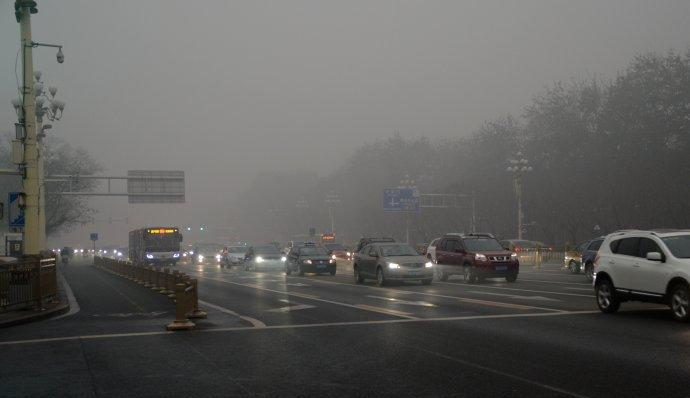bus: (126, 224, 182, 266)
car: (592, 228, 690, 322), (432, 230, 519, 283), (352, 240, 433, 287), (581, 233, 641, 281), (284, 241, 335, 276), (563, 238, 604, 274), (243, 243, 286, 272), (496, 238, 538, 266), (317, 240, 350, 266), (219, 244, 251, 268), (522, 238, 551, 262), (191, 244, 222, 265)
